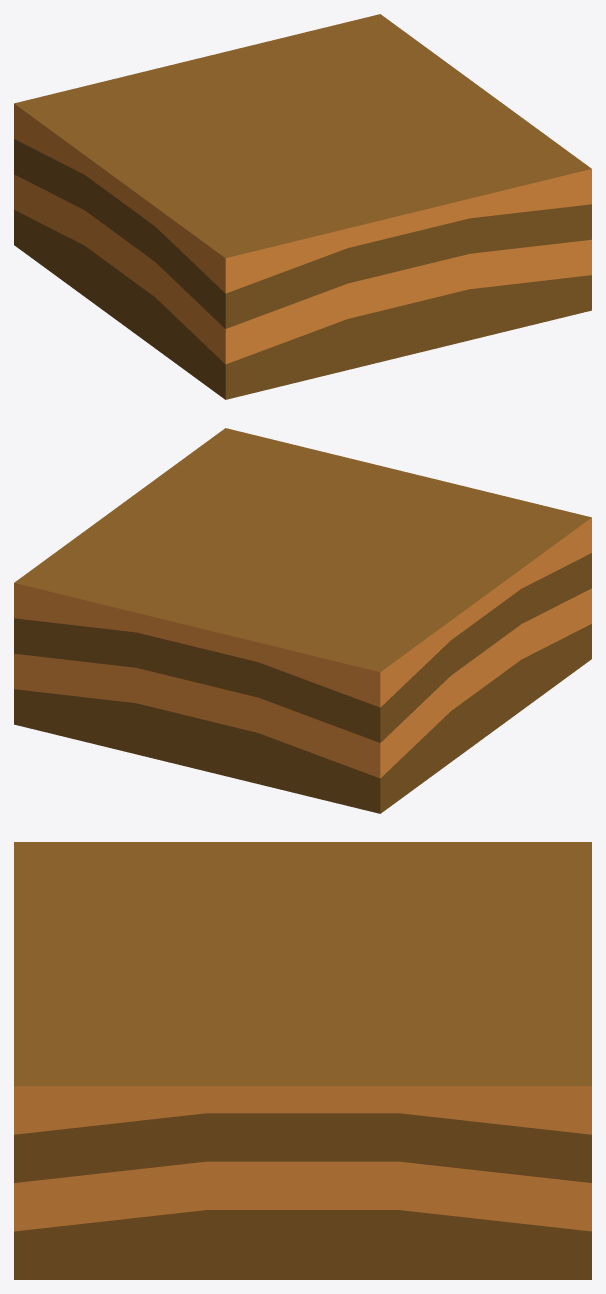
Rendered from land.fbx.
3 views of the same model, one above another, from view 1: azimuth 30°, elevation 25°; view 2: azimuth 150°, elevation 25°; view 3: azimuth 270°, elevation 25° (orthographic). The views are drawn at different scales.
Parts seen in each view (by area): view 1: земля; view 2: земля; view 3: земля.
Part boxes in pixels (x1,y1,x2,y2): земля: [14, 14, 591, 399]; земля: [14, 428, 591, 813]; земля: [14, 842, 591, 1279].
Size of the model in its own units: 200 by 73.9 by 200.
